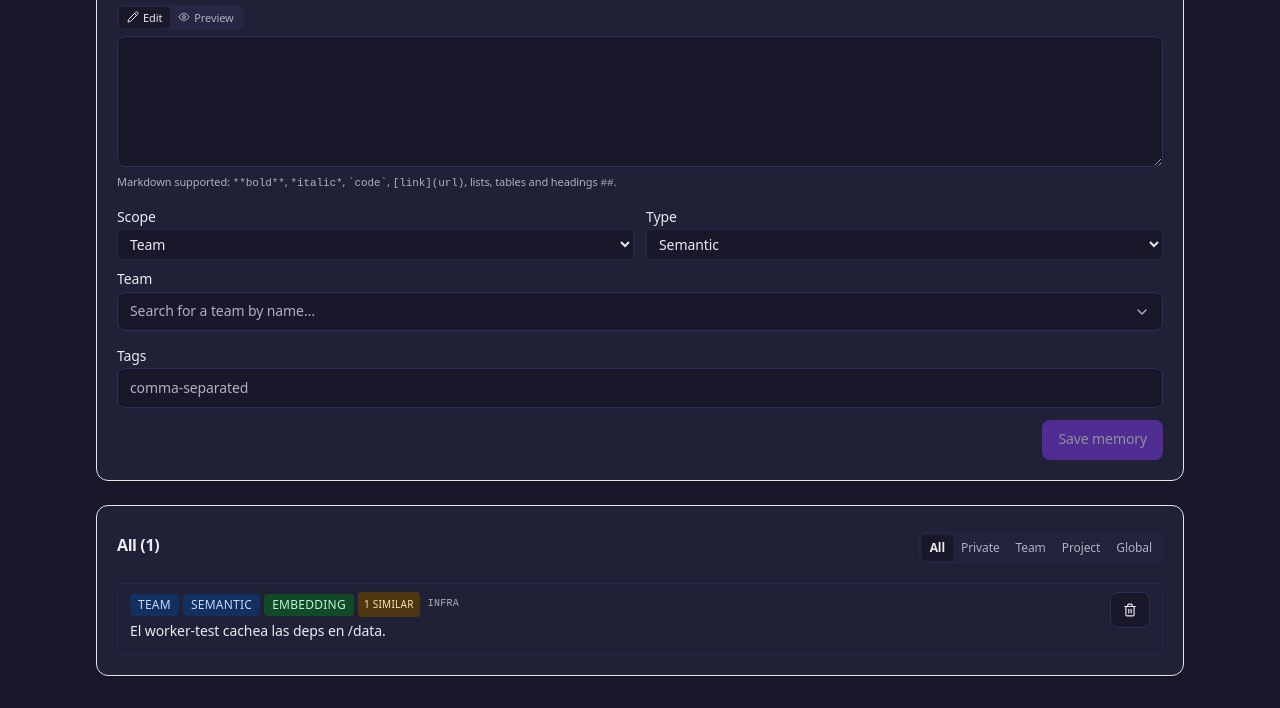
Test: memories en inglés › traduce el diálogo de memorias similares y sus dos acciones
The width and height of the screenshot is (1280, 708).
(page scrolled)
Click the button with test id "memory-similar-badge-mem-1". click: (389, 605)
box: 358,592 -> 420,617
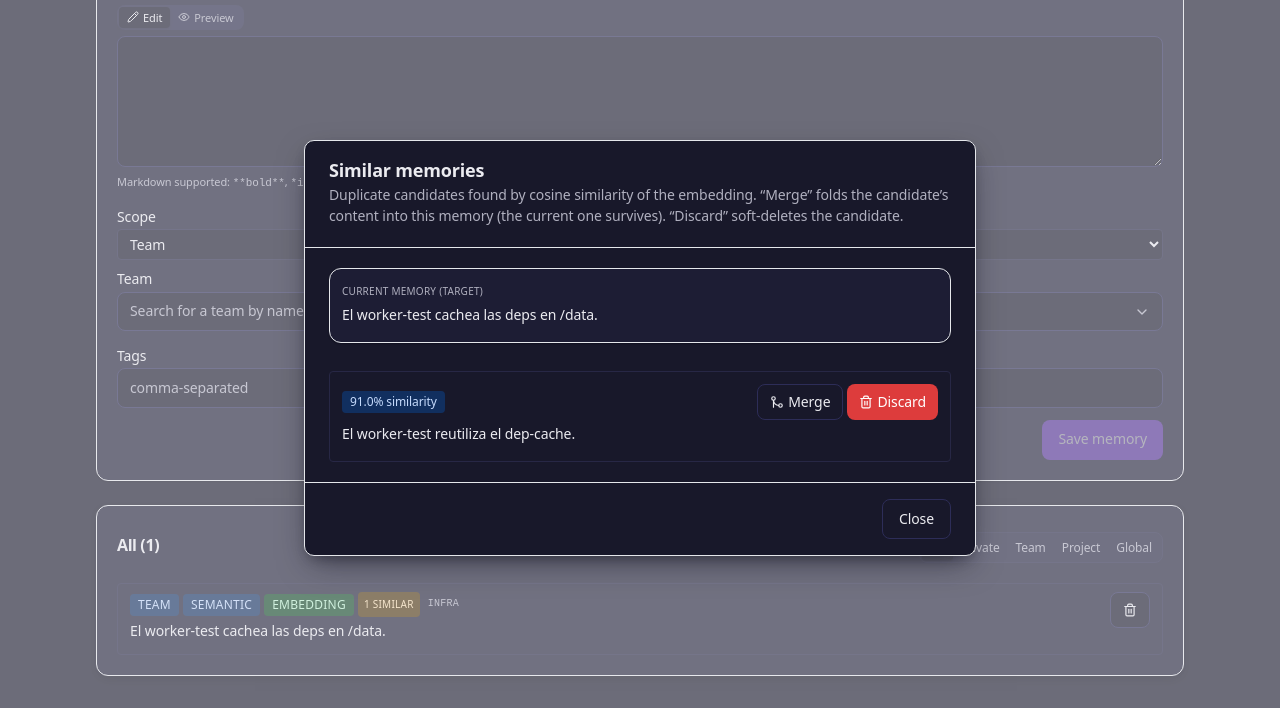
Expected: the list with test id "similar-list" is shown, 329,371 -> 951,462
Expected: the heading "Similar memories" is shown, 329,158 -> 484,182
Expected: the text "Duplicate candidates found by cosine similarity" is shown, 329,185 -> 948,225
